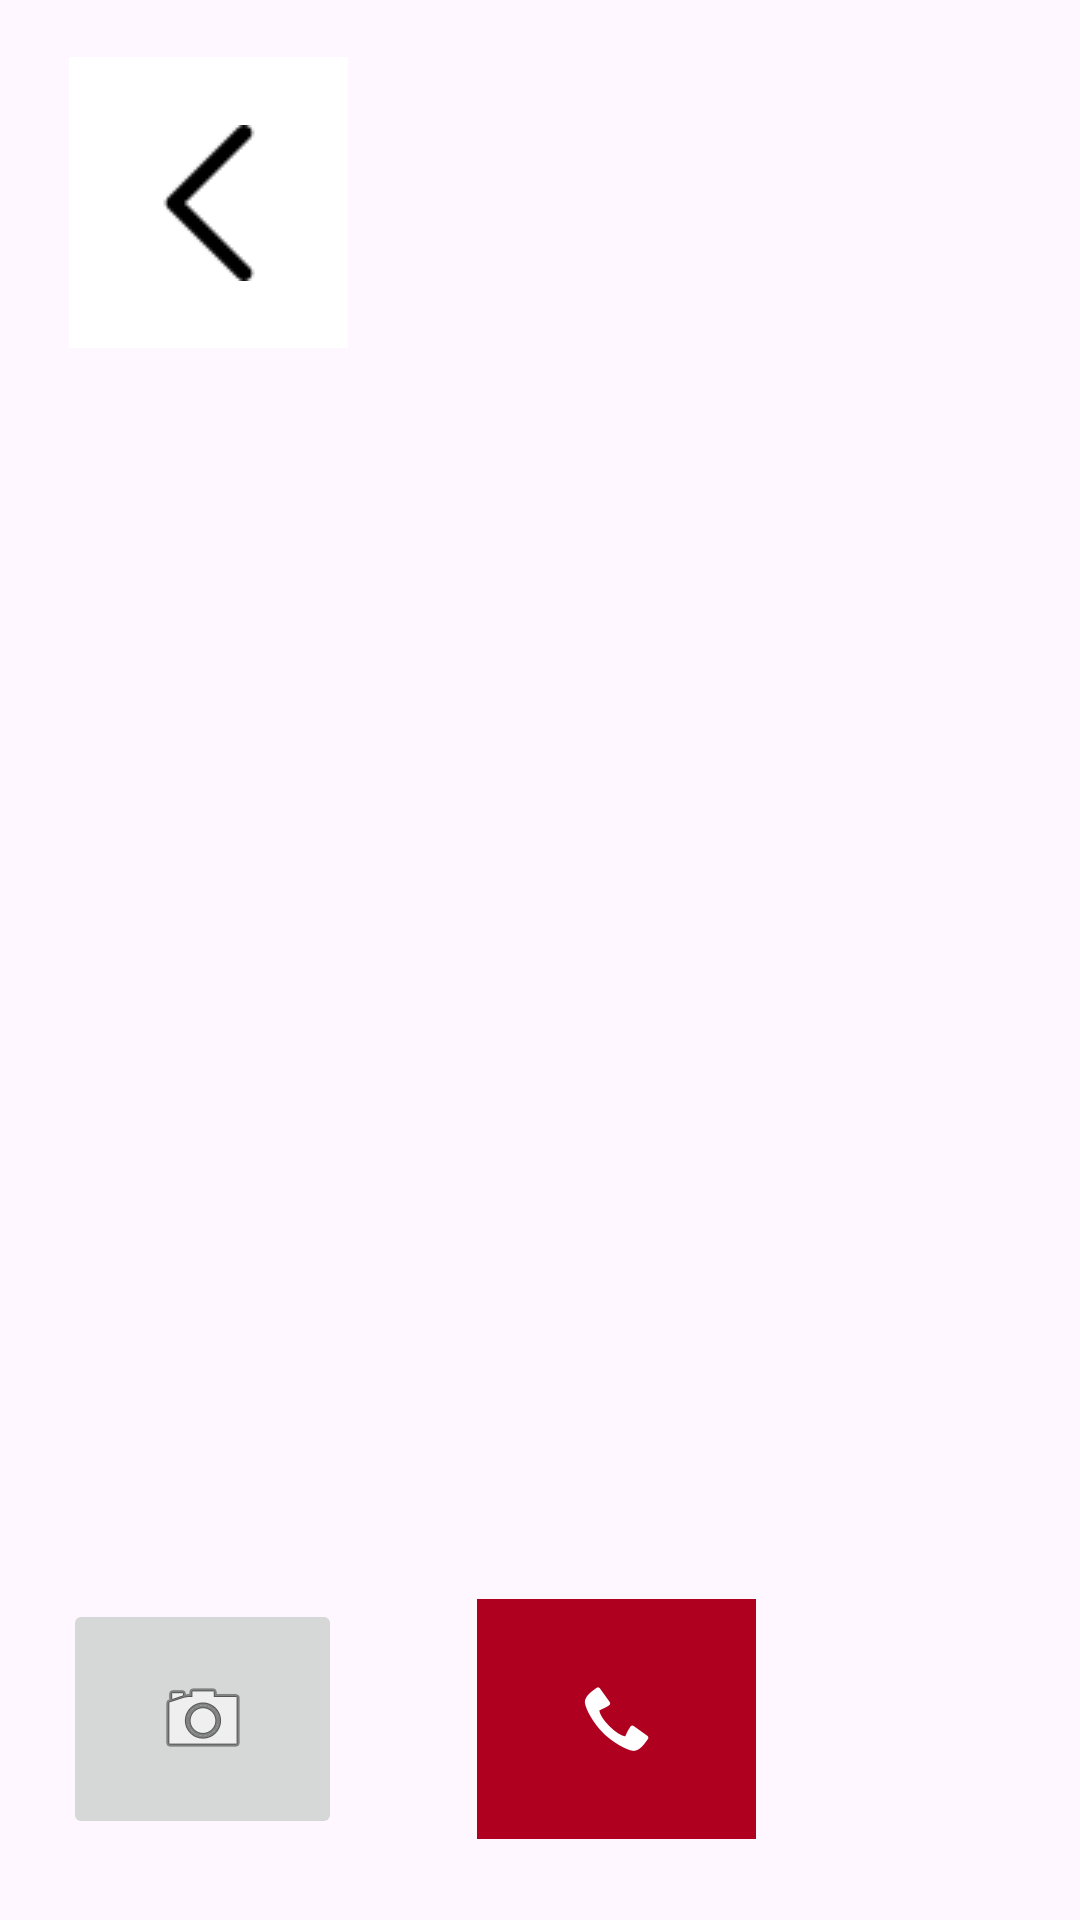

Where icons sit on this 1080w x 1920h app screen, as (x1, y1, x2, y2):
back: (164, 125, 255, 281)
camera: (75, 1617, 330, 1821)
phone call: (477, 1599, 756, 1839)
